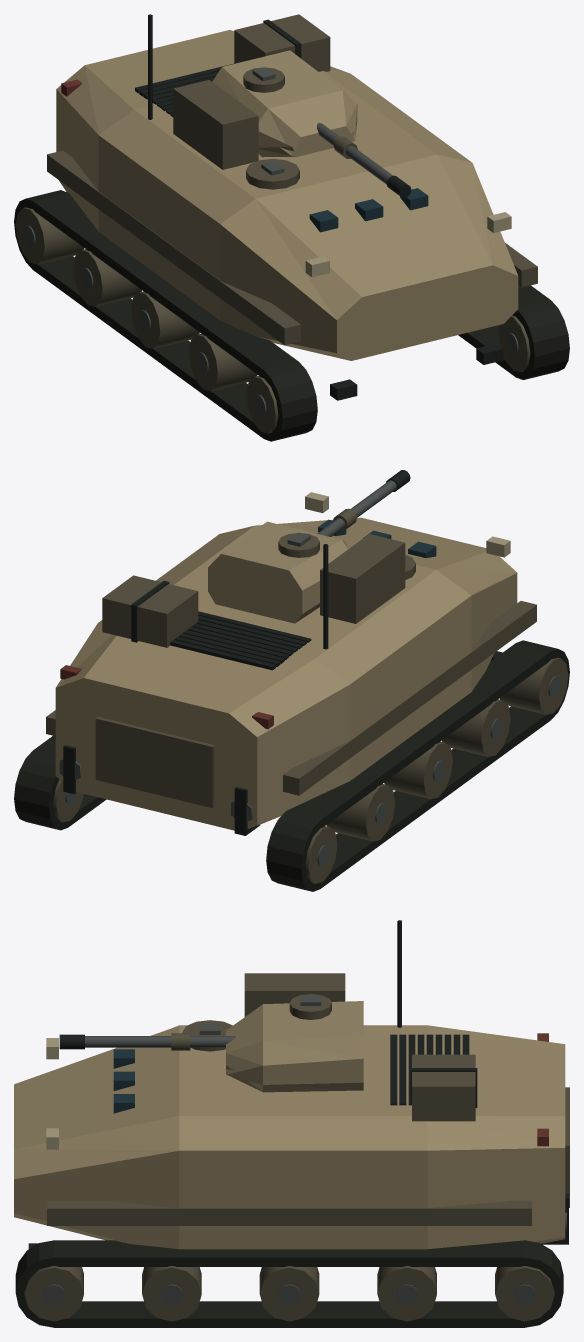
The model's file is ifv-lod.glb.
3 renders of one model, top to bottom at view 1: azimuth 30°, elevation 25°; view 2: azimuth 150°, elevation 25°; view 3: azimuth 270°, elevation 25°, orthographic.
Parts seen in each view (by area): view 1: equipment (×3); view 2: equipment (×3); view 3: equipment (×3).
Boxes of the visible parts, bbox=[...] form: equipment (×3): bbox=[14, 14, 569, 441]; equipment (×3): bbox=[14, 470, 569, 891]; equipment (×3): bbox=[14, 920, 569, 1327].
Bounding box in the file's own units: 3.29 × 3.03 × 5.24.
